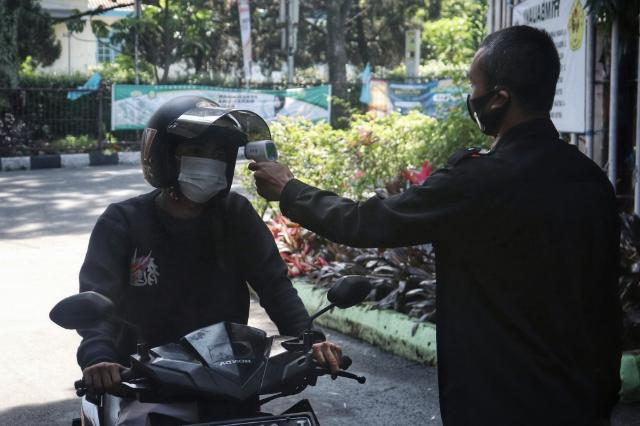helm: (138, 97, 251, 214)
motor: (48, 274, 379, 426)
